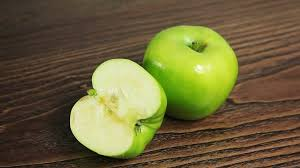apple: (143, 26, 239, 121)
damaged_apple: (69, 59, 168, 158)
